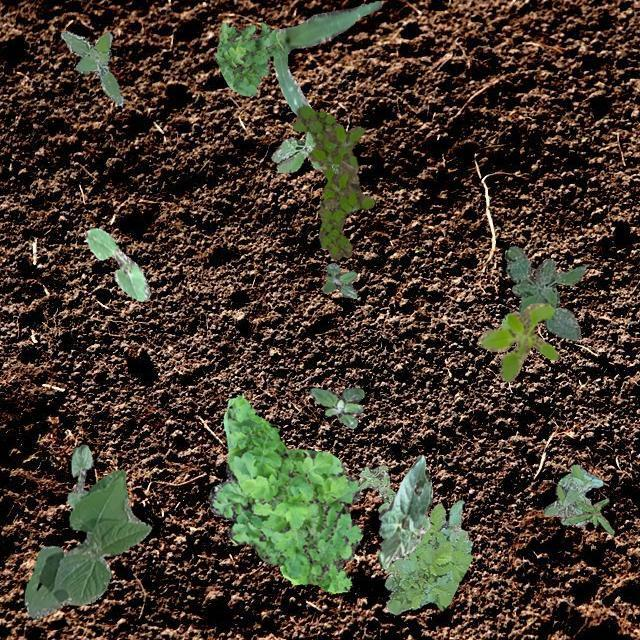crop: (23, 468, 150, 618), (272, 0, 381, 115), (378, 453, 432, 568), (82, 228, 150, 300), (66, 443, 92, 508), (290, 448, 310, 450)
weed: (208, 393, 362, 592), (292, 103, 374, 260), (384, 498, 472, 614), (504, 244, 584, 340), (476, 302, 556, 380), (214, 20, 284, 94), (59, 30, 122, 104), (542, 464, 602, 526), (270, 130, 338, 172), (308, 386, 362, 426), (358, 464, 396, 512), (566, 498, 614, 534), (321, 262, 356, 298)
